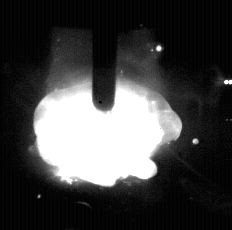arame: (92, 0, 117, 110)
poca: (33, 0, 182, 230)
